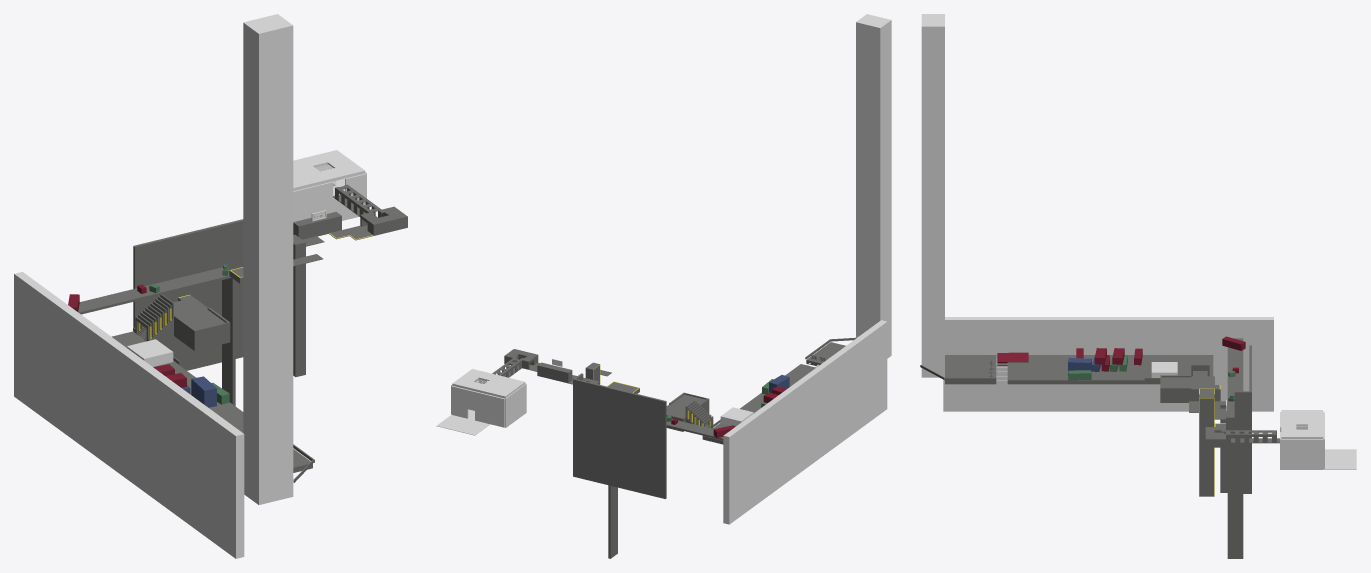
Rendered from Unity Level2.fbx.
The picture shows the model from 3 angles, left to right: view 1: azimuth 30°, elevation 25°; view 2: azimuth 150°, elevation 25°; view 3: azimuth 270°, elevation 25°; orthographic projection. The views are drawn at different scales.
Parts seen in each view (by area): view 1: Cube, Cube.022, Cube.038, Cube.036, Cube.033, Cube.032, Cube.030, Cube.034, Cube.003, Cube.026, Cube.019; view 2: Cube, Cube.022, Cube.038, Cube.027, Cube.030, Cube.036, Cube.034, Cube.003, Cube.032, Cube.033, Cube.031; view 3: Cube, Cube.022, Cube.038, Cube.003, Cube.036, Cube.020, Cube.027, Cube.033, Cube.030, Cube.026, Cube.031.
Part boxes in pixels (<box>): Cube: <box>14,272,244,558</box>; Cube.022: <box>243,14,293,504</box>; Cube.038: <box>133,206,407,377</box>; Cube.036: <box>78,267,235,406</box>; Cube.033: <box>173,294,230,350</box>; Cube.032: <box>293,173,365,221</box>; Cube.030: <box>293,150,365,190</box>; Cube.034: <box>133,294,314,482</box>; Cube.003: <box>112,331,243,432</box>; Cube.026: <box>333,184,387,217</box>; Cube.019: <box>126,339,173,366</box>; Cube: <box>723,320,887,524</box>; Cube.022: <box>856,14,891,358</box>; Cube.038: <box>504,349,666,498</box>; Cube.027: <box>451,384,505,427</box>; Cube.030: <box>452,369,525,398</box>; Cube.036: <box>608,419,723,558</box>; Cube.034: <box>685,337,855,428</box>; Cube.003: <box>702,364,815,444</box>; Cube.032: <box>475,378,526,427</box>; Cube.033: <box>666,392,709,431</box>; Cube.031: <box>436,409,489,435</box>; Cube: <box>943,317,1273,411</box>; Cube.022: <box>921,14,944,377</box>; Cube.038: <box>1189,345,1251,496</box>; Cube.003: <box>1007,355,1213,384</box>; Cube.036: <box>1227,338,1243,558</box>; Cube.020: <box>945,355,996,384</box>; Cube.027: <box>1281,412,1324,469</box>; Cube.033: <box>1160,375,1220,402</box>; Cube.030: <box>1281,410,1323,439</box>; Cube.026: <box>1217,430,1279,443</box>; Cube.031: <box>1281,449,1356,469</box>.
Size of the model in its own units: 72986 by 125175 by 103308.
